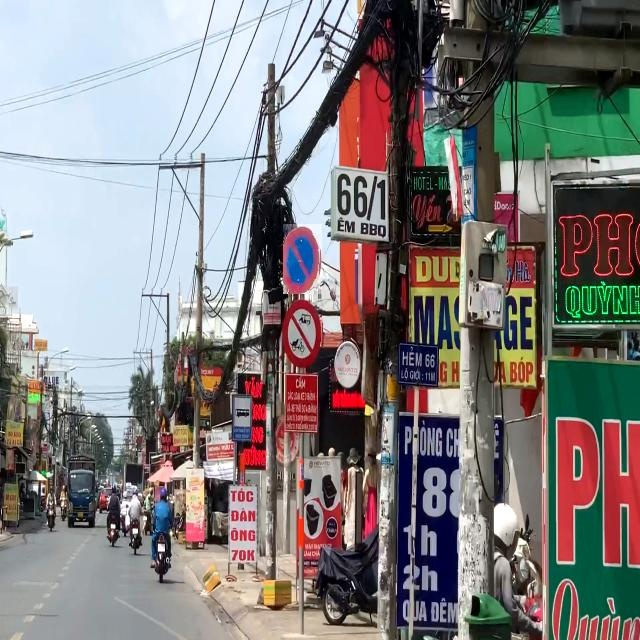bien_cam: (283, 224, 322, 294)
